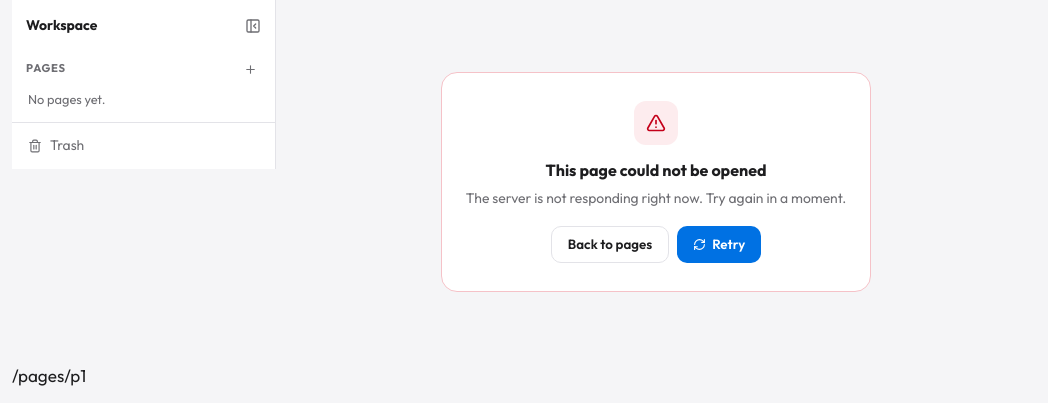
/pages/:id › never opens an editable page when loading it fails
Expected: the text "This page could not be opened" is shown, [546,160,766,180]
Click the button "Retry" at (719, 245), box [677,226,761,263]
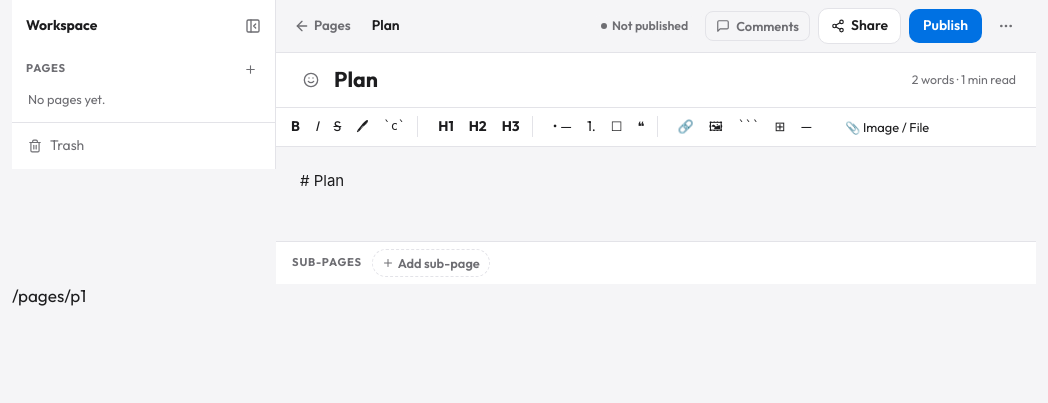
Now the field showing "Plan" is shown, box [334,62,904,96]
